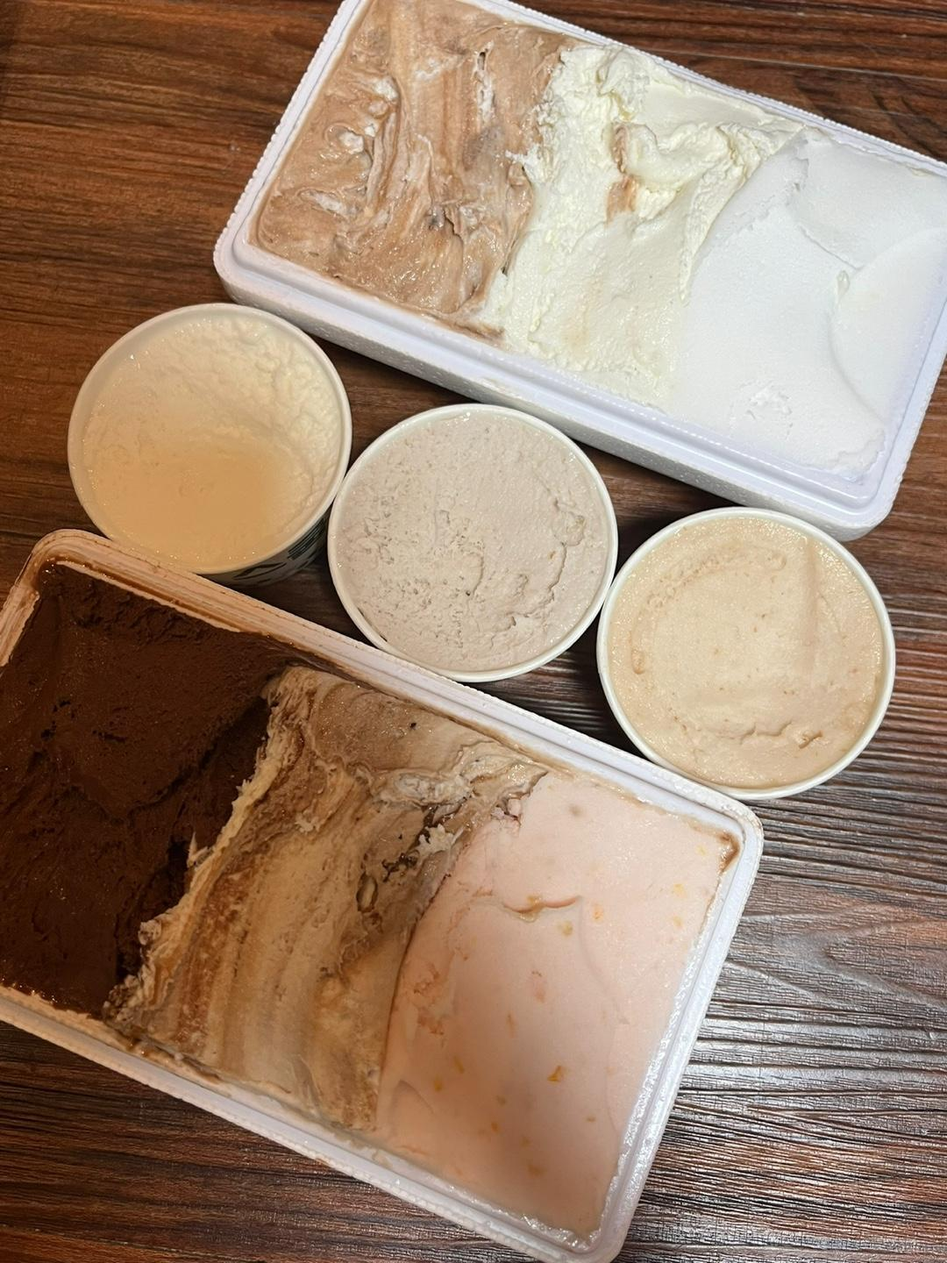Lunch Box: (0, 532, 761, 1262), (215, 0, 946, 539)
cup: (328, 404, 616, 679), (69, 304, 351, 582), (609, 517, 880, 788)
